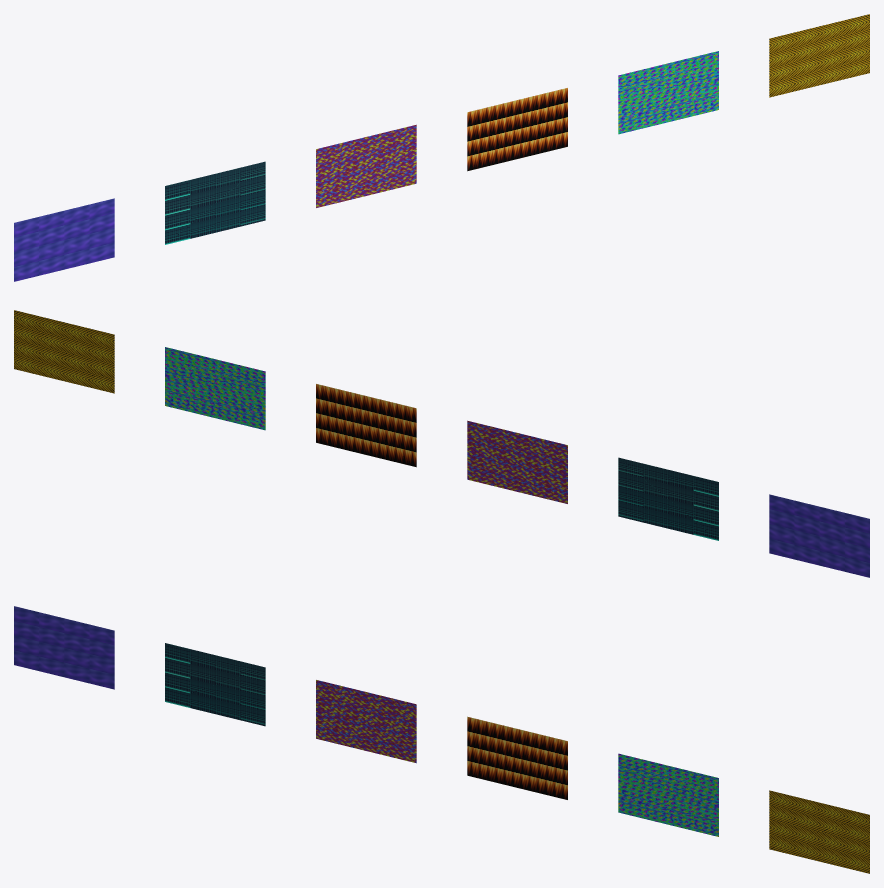
File: visuals.glb
3 views of the same model, one above another, from view 1: azimuth 30°, elevation 25°; view 2: azimuth 150°, elevation 25°; view 3: azimuth 330°, elevation 25° (orthographic).
Parts seen in each view (by area): view 1: Sheet1, Sheet4, Sheet0, Sheet2, Sheet3, Sheet5; view 2: Sheet1, Sheet4, Sheet0, Sheet2, Sheet3, Sheet5; view 3: Sheet1, Sheet4, Sheet0, Sheet2, Sheet3, Sheet5.
Part boxes in pixels (x1,y1,x2,y2): Sheet1: [165, 161, 265, 244]; Sheet4: [618, 51, 718, 134]; Sheet0: [14, 198, 114, 281]; Sheet2: [316, 124, 416, 207]; Sheet3: [467, 88, 567, 171]; Sheet5: [769, 14, 869, 97]; Sheet1: [618, 457, 718, 540]; Sheet4: [165, 347, 265, 430]; Sheet0: [769, 494, 869, 577]; Sheet2: [467, 420, 567, 503]; Sheet3: [316, 384, 416, 467]; Sheet5: [14, 310, 114, 393]; Sheet1: [165, 643, 265, 726]; Sheet4: [618, 753, 718, 836]; Sheet0: [14, 606, 114, 689]; Sheet2: [316, 680, 416, 763]; Sheet3: [467, 716, 567, 799]; Sheet5: [769, 790, 869, 873].
Size of the model in its own units: 17 by 1.12 by 0.
6 materials, 6 textured.
